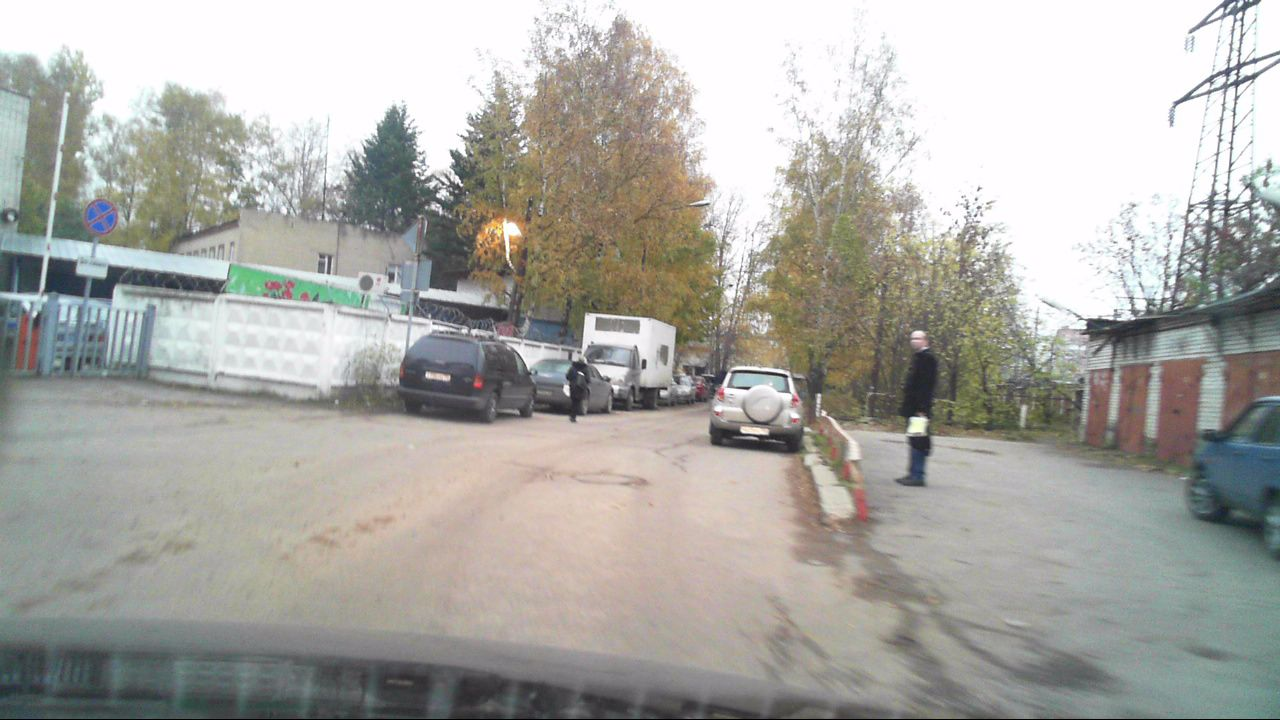No Parking: (83, 198, 118, 235)
